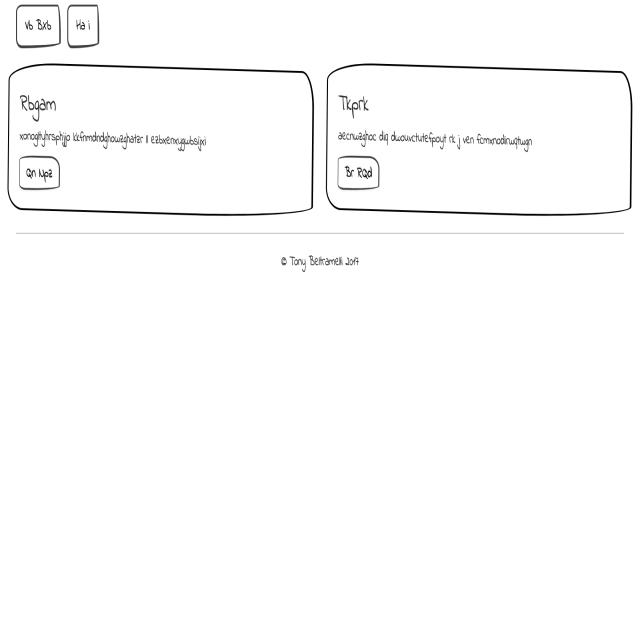Button: (13, 152, 65, 198), (334, 156, 385, 190)
Card: (2, 59, 317, 222), (324, 60, 635, 222)
Footer: (0, 224, 640, 640)
Heading 6: (18, 88, 63, 124), (334, 86, 372, 122)
Navigation Bar: (11, 0, 105, 56)
Paragraph: (334, 128, 539, 152), (13, 128, 215, 152)
